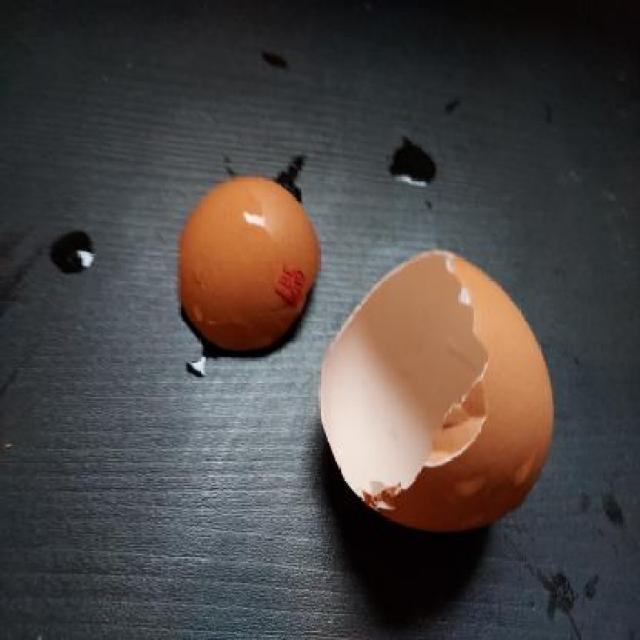biodegradable: (314, 242, 562, 541), (177, 170, 320, 356)
